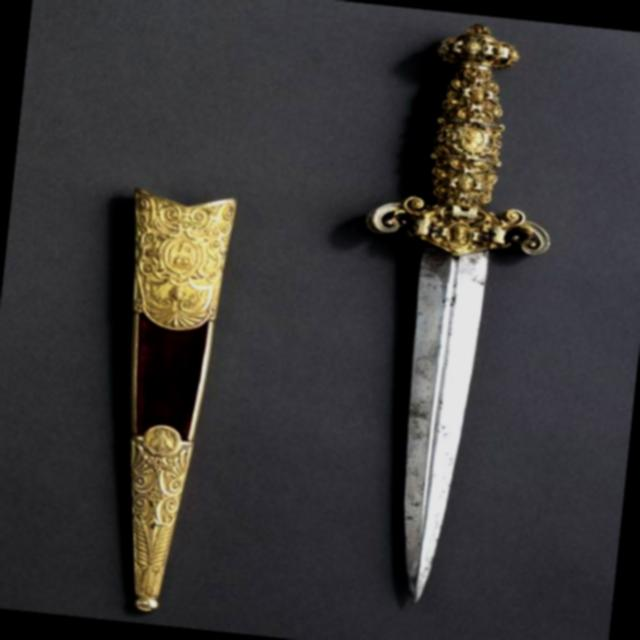short sword: (302, 12, 566, 624)
